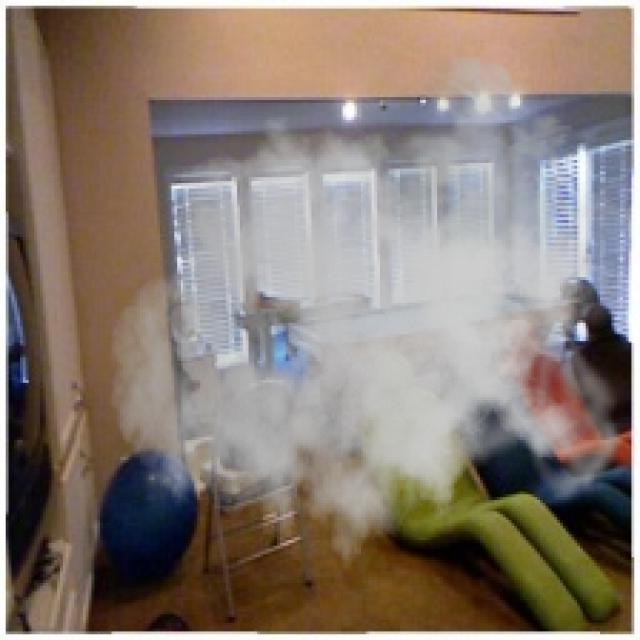smoke: (109, 57, 632, 592)
